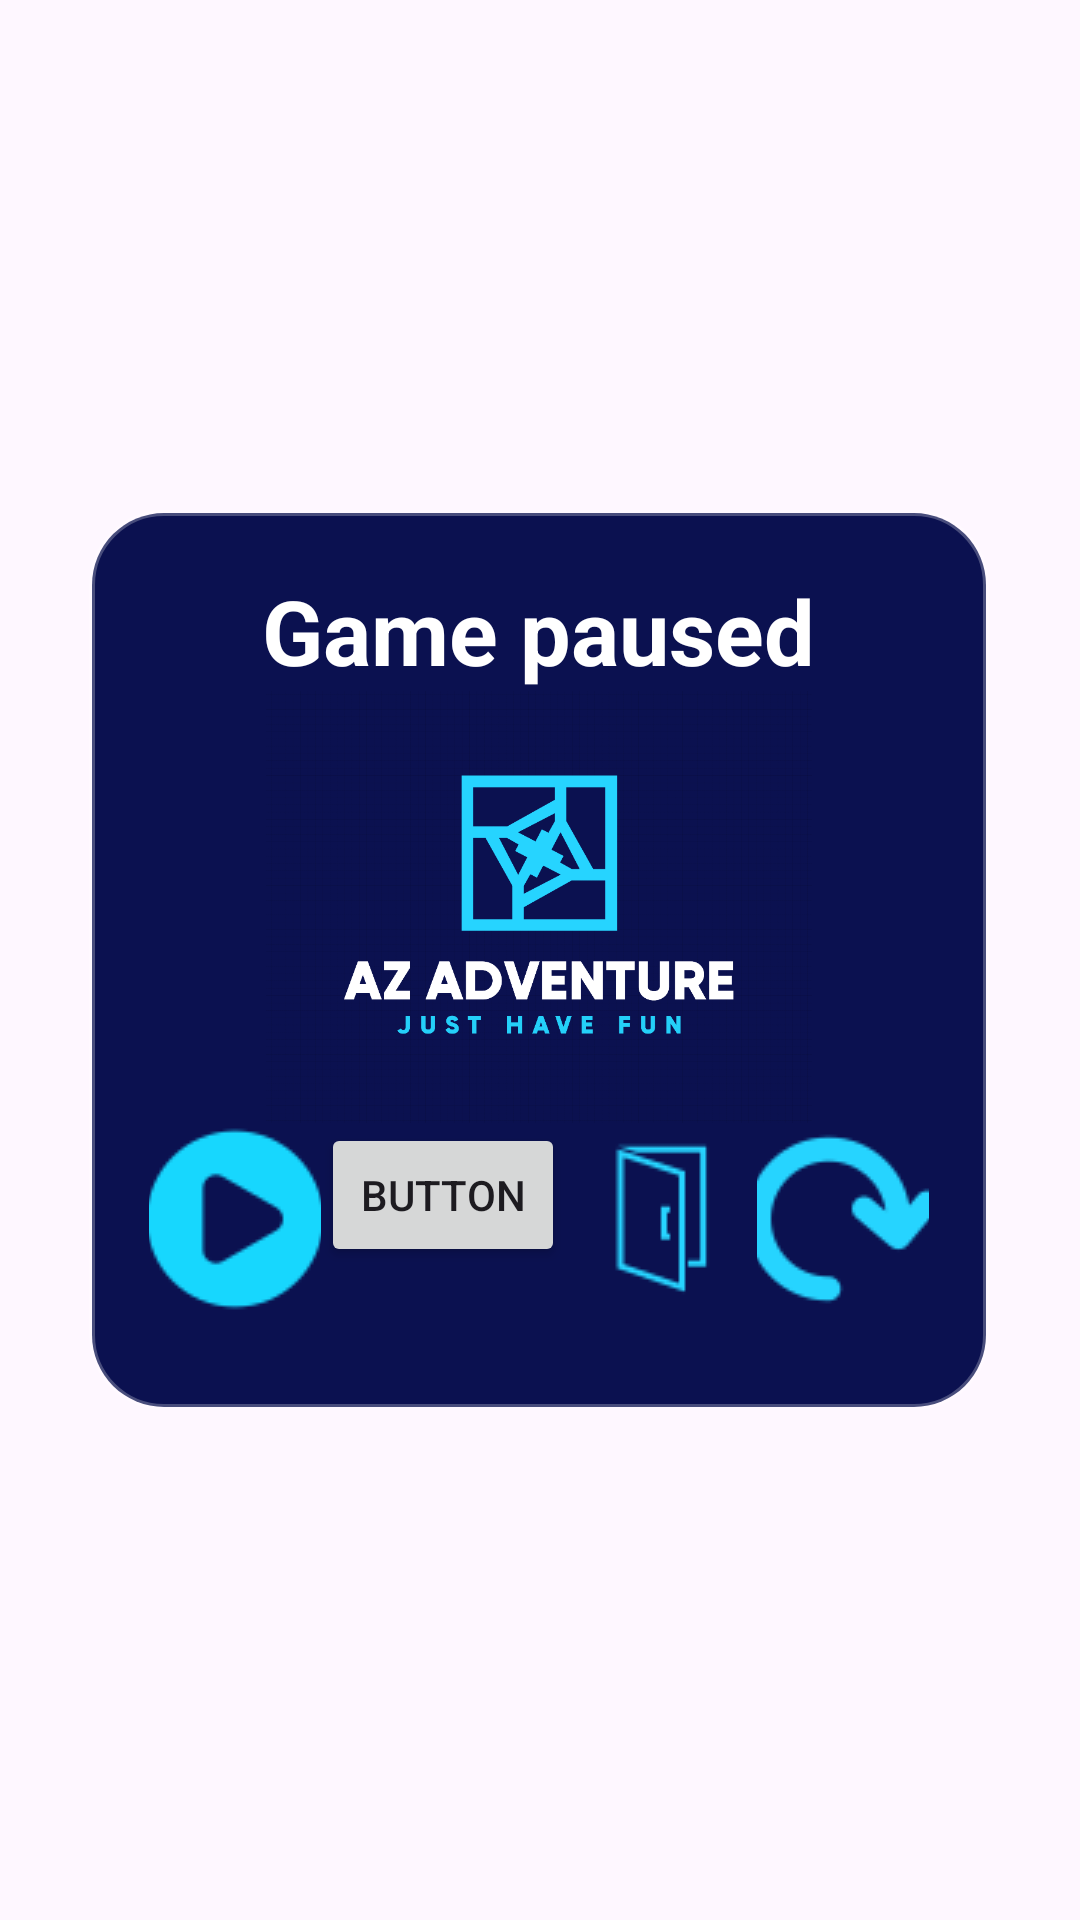

Icons on this 1080 × 1920 Android screen, each with its box as {"left": x1, "top": y1, "right": x2, "bottom": y2}:
exit: {"left": 615, "top": 1144, "right": 707, "bottom": 1292}
play: {"left": 149, "top": 1129, "right": 321, "bottom": 1309}
reload: {"left": 757, "top": 1135, "right": 929, "bottom": 1303}
